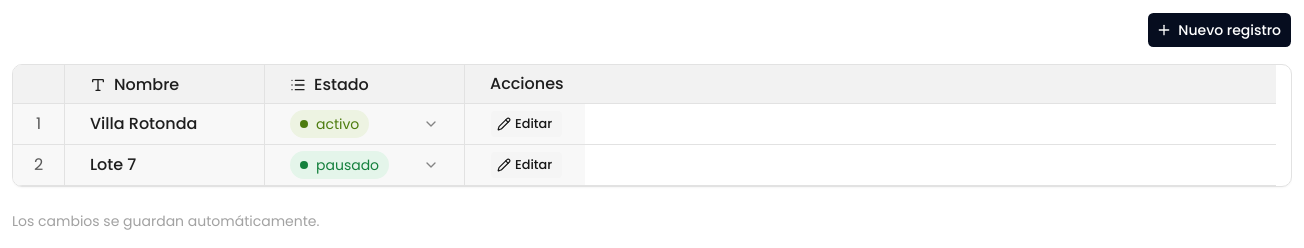
Test case: autosave › saves a committed cell without anyone pressing a button
Double-click the text "Villa Rotonda" at (144, 124), box [90,112,197,136]
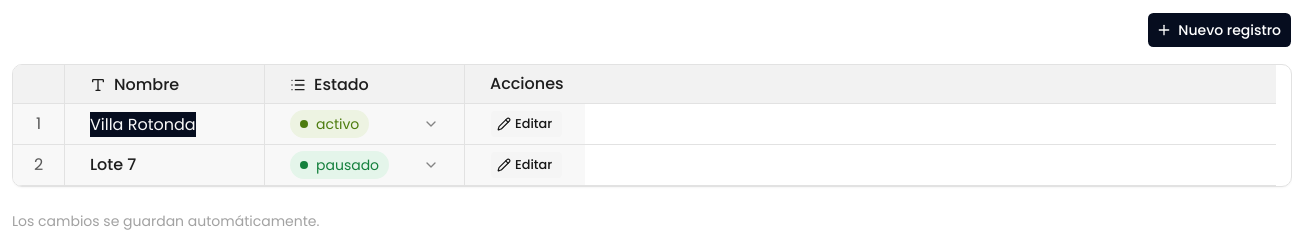
Replace the text in the field showing "Villa Rotonda" with "Villa Norte" at (164, 124), box [65,104,264,144]
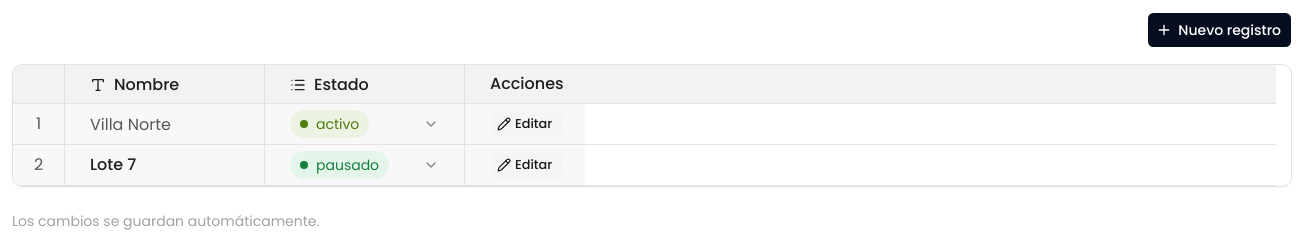
Press Tab
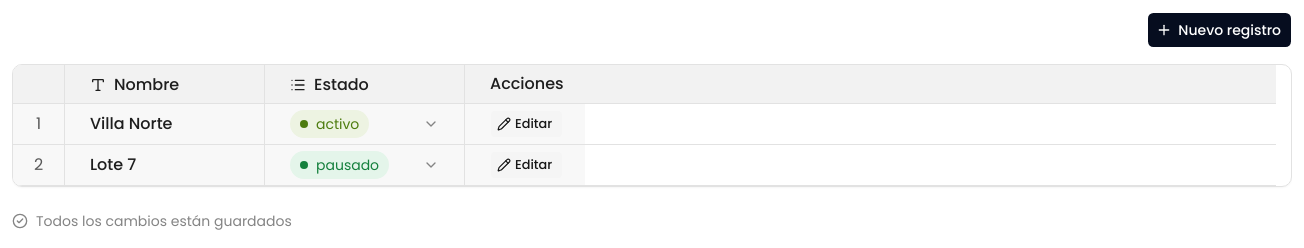
Now the text "Todos los cambios están guardados" is shown, box [12,211,292,231]
